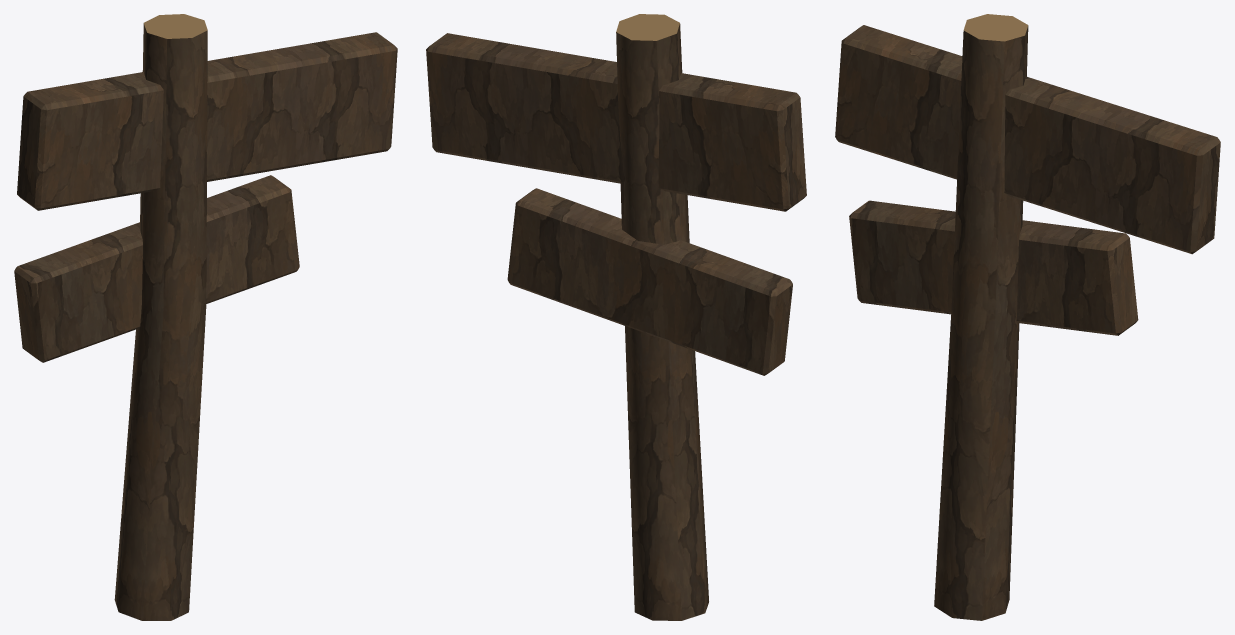
Rendered from render.glb.
3 views of the same model, side by side, from view 1: azimuth 30°, elevation 25°; view 2: azimuth 150°, elevation 25°; view 3: azimuth 330°, elevation 25° (orthographic).
Visible parts, largest first — view 1: woodland-trail-sign · evaluated preview mesh; view 2: woodland-trail-sign · evaluated preview mesh; view 3: woodland-trail-sign · evaluated preview mesh.
Boxes of the visible parts, x1,y1,x2,y2 form: woodland-trail-sign · evaluated preview mesh: (14, 14, 397, 620); woodland-trail-sign · evaluated preview mesh: (426, 14, 806, 620); woodland-trail-sign · evaluated preview mesh: (835, 14, 1220, 620).
Size of the model in its own units: 1.52 by 2.31 by 0.2913.
Materials: 2 (1 with a texture image).
